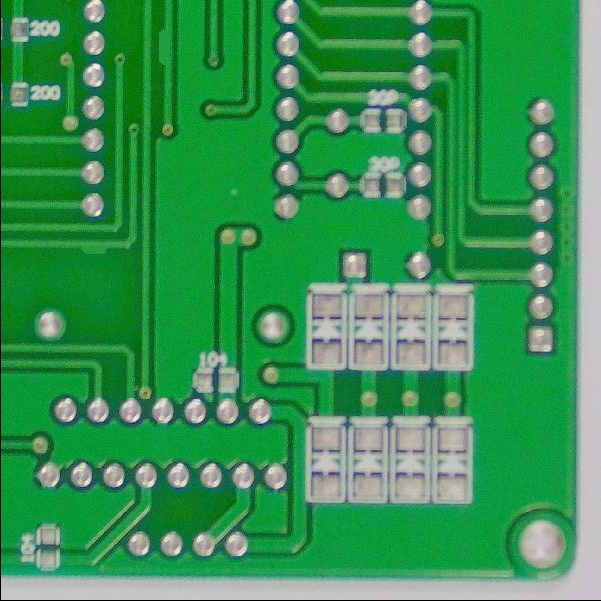spur: (151, 21, 177, 70), (74, 236, 112, 264)
